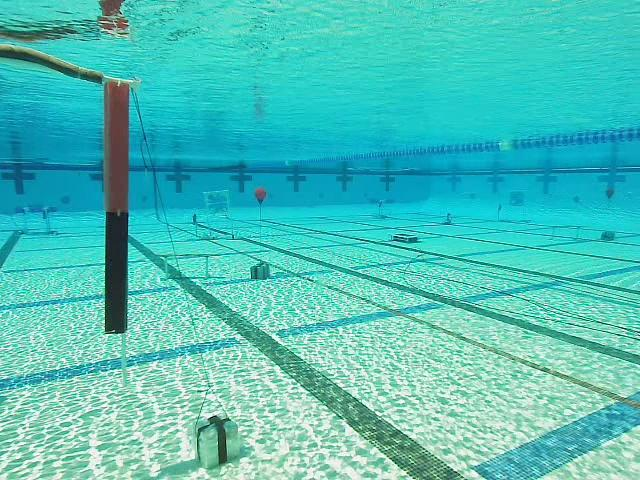buoy: (253, 188, 267, 207)
gate_leg_r: (102, 76, 135, 335)
table: (16, 206, 58, 236)
torpedo: (205, 192, 229, 214)
